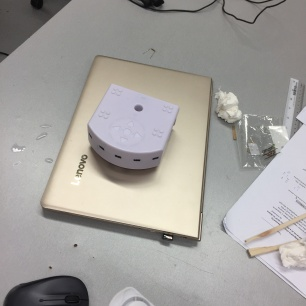thymio: (80, 80, 188, 174)
